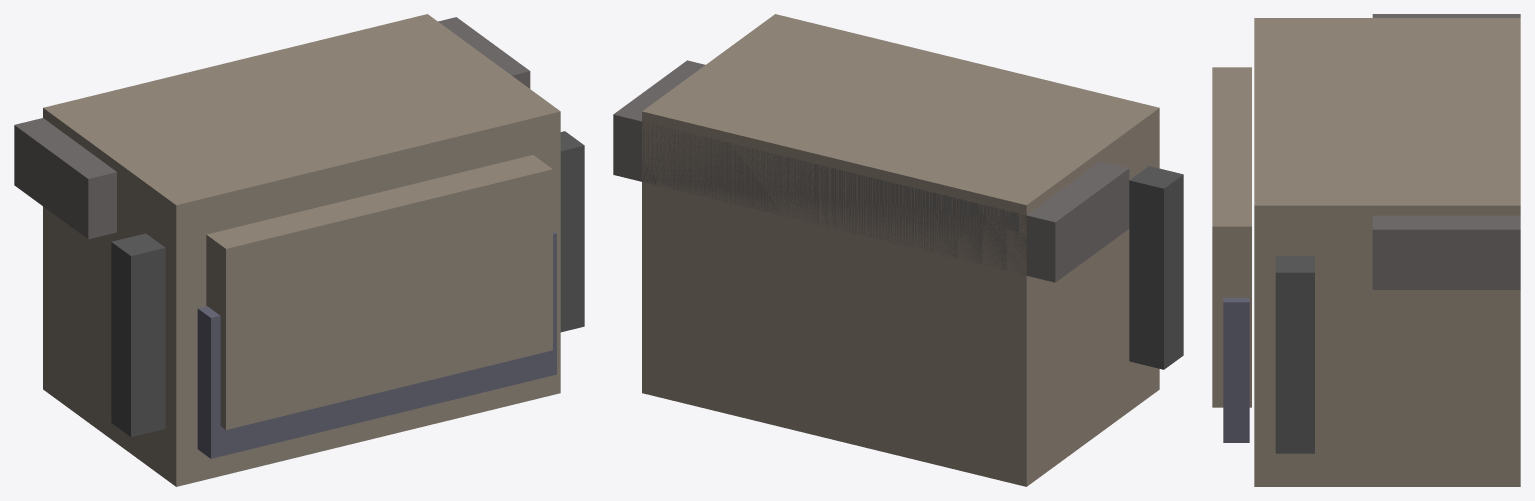
The model's file is body_iron.glb.
The picture shows the model from 3 angles, left to right: view 1: azimuth 30°, elevation 25°; view 2: azimuth 150°, elevation 25°; view 3: azimuth 270°, elevation 25°; orthographic projection.
Parts seen in each view (by area): view 1: geometry_0, geometry_1, geometry_5, geometry_3, geometry_2, geometry_4; view 2: geometry_0, geometry_2, geometry_3; view 3: geometry_0, geometry_2, geometry_1, geometry_4, geometry_5.
Boxes of the visible parts, x1,y1,x2,y2 form: geometry_0: (43, 14, 560, 486); geometry_1: (206, 155, 552, 429); geometry_5: (197, 231, 556, 458); geometry_3: (111, 233, 165, 437); geometry_2: (14, 17, 530, 239); geometry_4: (560, 131, 584, 332); geometry_0: (642, 14, 1159, 486); geometry_2: (613, 60, 1129, 282); geometry_3: (1129, 166, 1183, 369); geometry_0: (1254, 18, 1520, 486); geometry_2: (1372, 14, 1520, 289); geometry_1: (1212, 67, 1251, 407); geometry_4: (1275, 255, 1314, 453); geometry_5: (1223, 297, 1249, 442).
Bounding box in the file's own units: 1.59 × 0.945 × 0.9375.
